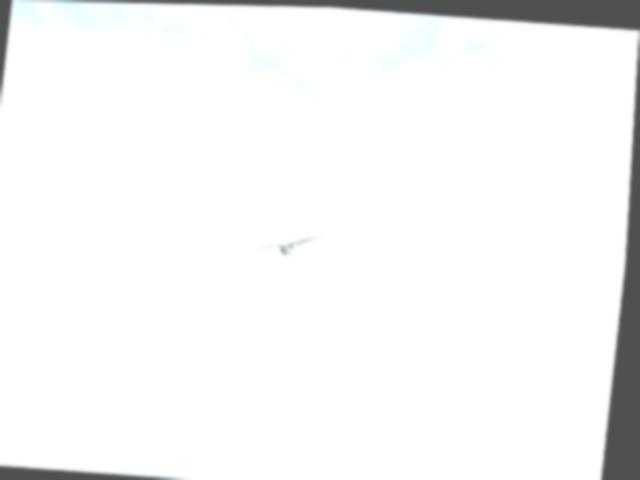uav: (252, 223, 329, 264)
